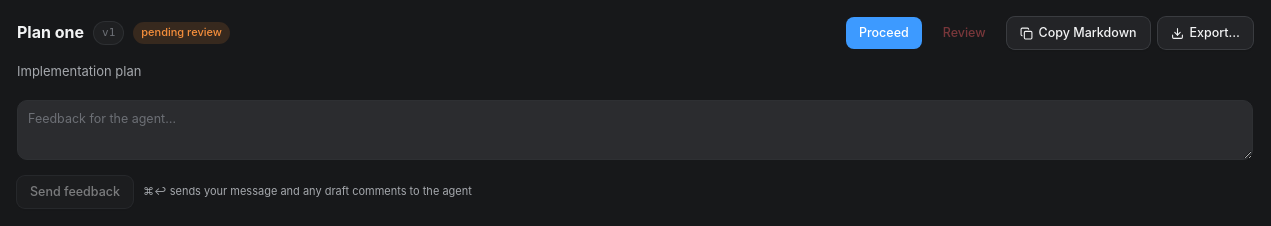
Test case: ArtifactViewer plan resolution feedback › disables Send feedback until there is a message or draft comment
Expected: the button "Send feedback" is disabled, x1=17 y1=176 x2=133 y2=208
Type "now sendable" into the text box with placeholder "Feedback for the agent…".
click(635, 130); type("now sendable")  # box x1=17 y1=100 x2=1253 y2=160
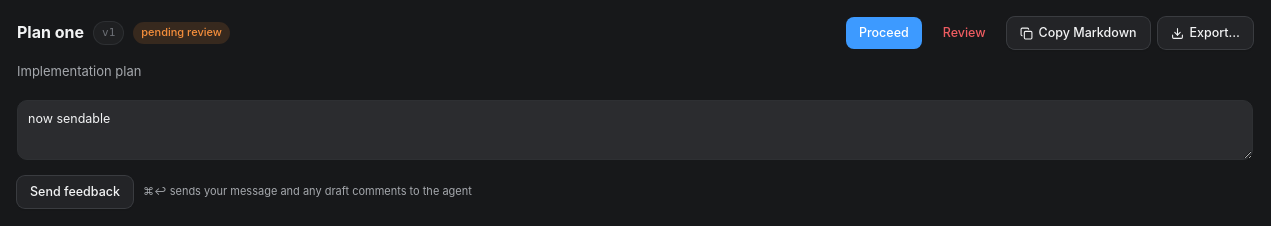
Now the button "Send feedback" is enabled, box x1=17 y1=176 x2=133 y2=208
